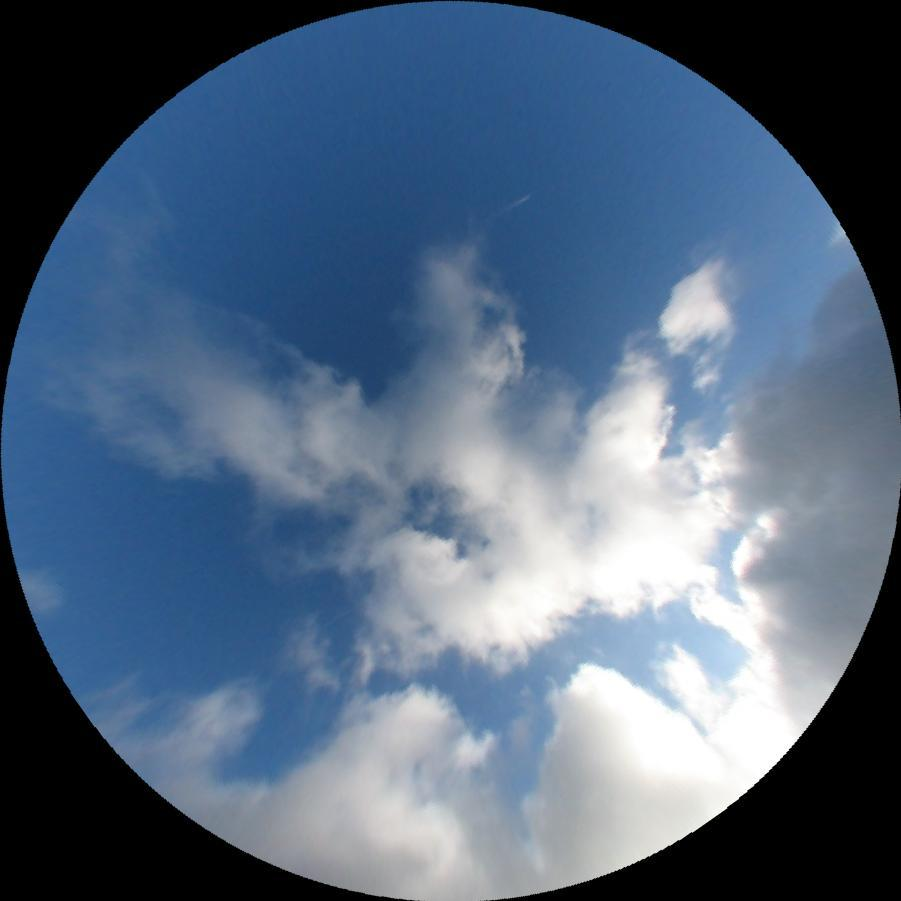contrail young: (499, 191, 533, 216)
